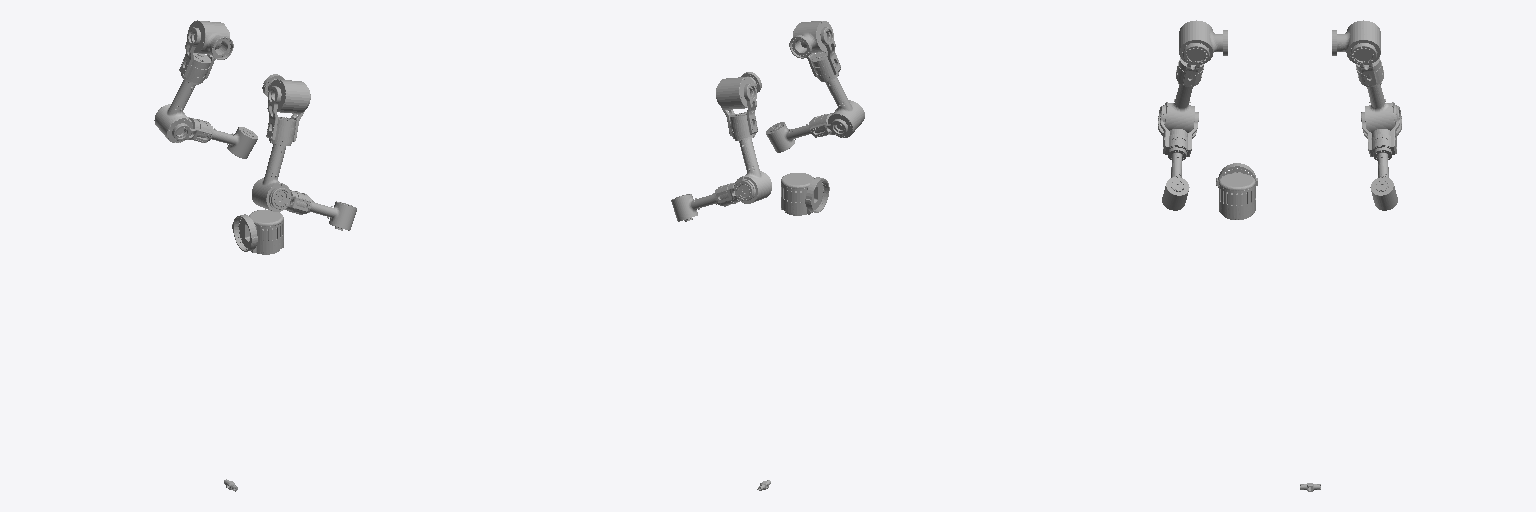
URDF robot description (sbt):
<?xml version='1.0' encoding='utf-8'?>
<robot name="sbt">
  <mujoco>
    <compiler meshdir="./meshes" balanceinertia="true" discardvisual="false" />
  </mujoco>
  <link name="base_link">
    <inertial>
      <origin xyz="-0.10125 -1.4179E-07 -0.041448" rpy="0 0 0" />
      <mass value="7.4135" />
      <inertia ixx="0.028711" ixy="2.4853E-08" ixz="-0.0011713" iyy="0.014902" iyz="2.6749E-09" izz="0.026823" />
    </inertial>
    <visual>
      <origin xyz="0 0 0" rpy="0 0 0" />
      <geometry>
        <mesh filename="./meshes/base_link.STL" />
      </geometry>
      <material name="">
        <color rgba="0.69804 0.69804 0.69804 1" />
      </material>
    </visual>
    <collision>
      <origin xyz="0 0 0" rpy="0 0 0" />
      <geometry>
        <mesh filename="./meshes/base_link.STL" />
      </geometry>
    </collision>
  </link>
  <link name="left_hip_roll">
    <inertial>
      <origin xyz="0.10837 -2.3489E-06 -0.020356" rpy="0 0 0" />
      <mass value="2.1827" />
      <inertia ixx="0.0028761" ixy="4.6498E-10" ixz="0.00014689" iyy="0.0032228" iyz="-3.1042E-09" izz="0.0034399" />
    </inertial>
    <visual>
      <origin xyz="0 0 0" rpy="0 0 0" />
      <geometry>
        <mesh filename="./meshes/left_hip_roll.STL" />
      </geometry>
      <material name="">
        <color rgba="0.69804 0.69804 0.69804 1" />
      </material>
    </visual>
  </link>
  <joint name="left_hip_roll_joint" type="revolute">
    <origin xyz="-0.11644 0.1225 -0.04795" rpy="0 0 0" />
    <parent link="base_link" />
    <child link="left_hip_roll" />
    <axis xyz="1 0 0" />
    <limit lower="-0.17" upper="0.44" effort="267" velocity="13.92" />
  </joint>
  <link name="left_hip_yaw">
    <inertial>
      <origin xyz="-0.00016271 -0.0040921 -0.1177" rpy="0 0 0" />
      <mass value="3.3125" />
      <inertia ixx="0.0053166" ixy="-1.9892E-09" ixz="-4.9223E-06" iyy="0.0062614" iyz="-0.00018436" izz="0.0051934" />
    </inertial>
    <visual>
      <origin xyz="0 0 0" rpy="0 0 0" />
      <geometry>
        <mesh filename="./meshes/left_hip_yaw.STL" />
      </geometry>
      <material name="">
        <color rgba="0.69804 0.69804 0.69804 1" />
      </material>
    </visual>
  </link>
  <joint name="left_hip_yaw_joint" type="revolute">
    <origin xyz="0.1155 0 -0.0182" rpy="0 0 0" />
    <parent link="left_hip_roll" />
    <child link="left_hip_yaw" />
    <axis xyz="0 0 1" />
    <limit lower="-0.7" upper="0.7" effort="121" velocity="7.17" />
  </joint>
  <link name="left_hip_pitch">
    <inertial>
      <origin xyz="0.0025393 0.0034884 -0.15511" rpy="0 0 0" />
      <mass value="5.7187" />
      <inertia ixx="0.032618" ixy="3.4025E-05" ixz="0.00057827" iyy="0.03304" iyz="-0.002044" izz="0.0097265" />
    </inertial>
    <visual>
      <origin xyz="0 0 0" rpy="0 0 0" />
      <geometry>
        <mesh filename="./meshes/left_hip_pitch.STL" />
      </geometry>
      <material name="">
        <color rgba="0.69804 0.69804 0.69804 1" />
      </material>
    </visual>
  </link>
  <joint name="left_hip_pitch_joint" type="revolute">
    <origin xyz="0 -0.0015 -0.125" rpy="0 0 0" />
    <parent link="left_hip_yaw" />
    <child link="left_hip_pitch" />
    <axis xyz="0 1 0" />
    <limit lower="-1.34" upper="1.83" effort="267" velocity="13.92" />
  </joint>
  <link name="left_knee">
    <inertial>
      <origin xyz="-0.017852 -6.7212E-06 -0.15577" rpy="0 0 0" />
      <mass value="3.6902" />
      <inertia ixx="0.022044" ixy="-9.3601E-06" ixz="7.1509E-05" iyy="0.022729" iyz="7.66E-05" izz="0.002391" />
    </inertial>
    <visual>
      <origin xyz="0 0 0" rpy="0 0 0" />
      <geometry>
        <mesh filename="./meshes/left_knee.STL" />
      </geometry>
      <material name="">
        <color rgba="0.75294 0.75294 0.75294 1" />
      </material>
    </visual>
  </link>
  <joint name="left_knee_joint" type="revolute">
    <origin xyz="0 -0.034937 -0.4" rpy="0 0 0" />
    <parent link="left_hip_pitch" />
    <child link="left_knee" />
    <axis xyz="0 -1 0" />
    <limit lower="-2.09" upper="0.09" effort="267" velocity="13.92" />
  </joint>
  <link name="left_ankle_pitch">
    <inertial>
      <origin xyz="1.6609E-09 3.2596E-09 -6.0503E-09" rpy="0 0 0" />
      <mass value="0.09865" />
      <inertia ixx="2.4782E-05" ixy="-9.3355E-12" ixz="-8.3612E-13" iyy="6.0596E-06" iyz="-1.4509E-12" izz="2.4168E-05" />
    </inertial>
    <visual>
      <origin xyz="0 0 0" rpy="0 0 0" />
      <geometry>
        <mesh filename="./meshes/left_ankle_pitch.STL" />
      </geometry>
      <material name="">
        <color rgba="0.69804 0.69804 0.69804 1" />
      </material>
    </visual>
  </link>
  <joint name="left_ankle_pitch_joint" type="revolute">
    <origin xyz="0 0.00043724 -0.387" rpy="0 0 0" />
    <parent link="left_knee" />
    <child link="left_ankle_pitch" />
    <axis xyz="0 -1 0" />
    <limit lower="-0.52" upper="1.05" effort="42" velocity="6.7" />
  </joint>
  <link name="left_ankle_roll">
    <inertial>
      <origin xyz="0.039669 -5.3886E-08 -0.036778" rpy="0 0 0" />
      <mass value="0.60538" />
      <inertia ixx="0.00034025" ixy="-1.4526E-09" ixz="0.00017653" iyy="0.0025604" iyz="-8.608E-10" izz="0.0026384" />
    </inertial>
    <visual>
      <origin xyz="0 0 0" rpy="0 0 0" />
      <geometry>
        <mesh filename="./meshes/left_ankle_roll.STL" />
      </geometry>
      <material name="">
        <color rgba="0.69804 0.69804 0.69804 1" />
      </material>
    </visual>
    <collision>
      <origin xyz="0.046 0 -0.042" rpy="0 0 0" />
      <geometry>
        <box size="0.225 0.08 0.025" />
      </geometry>
    </collision>
  </link>
  <joint name="left_ankle_roll_joint" type="revolute">
    <origin xyz="0 0 0" rpy="0 0 0" />
    <parent link="left_ankle_pitch" />
    <child link="left_ankle_roll" />
    <axis xyz="-1 0 0" />
    <limit lower="-0.44" upper="0.44" effort="42" velocity="6.7" />
  </joint>
  <link name="right_hip_roll">
    <inertial>
      <origin xyz="0.10837 -2.3489E-06 -0.020356" rpy="0 0 0" />
      <mass value="2.1827" />
      <inertia ixx="0.0028761" ixy="4.6498E-10" ixz="0.00014689" iyy="0.0032228" iyz="-3.1042E-09" izz="0.0034399" />
    </inertial>
    <visual>
      <origin xyz="0 0 0" rpy="0 0 0" />
      <geometry>
        <mesh filename="./meshes/right_hip_roll.STL" />
      </geometry>
      <material name="">
        <color rgba="0.69804 0.69804 0.69804 1" />
      </material>
    </visual>
  </link>
  <joint name="right_hip_roll_joint" type="revolute">
    <origin xyz="-0.11644 -0.1225 -0.04795" rpy="0 0 0" />
    <parent link="base_link" />
    <child link="right_hip_roll" />
    <axis xyz="1 0 0" />
    <limit lower="-0.44" upper="0.17" effort="267" velocity="13.92" />
  </joint>
  <link name="right_hip_yaw">
    <inertial>
      <origin xyz="-0.00016274 0.0040921 -0.1177" rpy="0 0 0" />
      <mass value="3.3125" />
      <inertia ixx="0.0053166" ixy="-1.9892E-09" ixz="-4.9218E-06" iyy="0.0062614" iyz="0.00018436" izz="0.0051934" />
    </inertial>
    <visual>
      <origin xyz="0 0 0" rpy="0 0 0" />
      <geometry>
        <mesh filename="./meshes/right_hip_yaw.STL" />
      </geometry>
      <material name="">
        <color rgba="0.69804 0.69804 0.69804 1" />
      </material>
    </visual>
  </link>
  <joint name="right_hip_yaw_joint" type="revolute">
    <origin xyz="0.1155 0 -0.0182" rpy="0 0 0" />
    <parent link="right_hip_roll" />
    <child link="right_hip_yaw" />
    <axis xyz="0 0 1" />
    <limit lower="-0.7" upper="0.7" effort="121" velocity="7.17" />
  </joint>
  <link name="right_hip_pitch">
    <inertial>
      <origin xyz="0.0025393 -0.0034884 -0.15511" rpy="0 0 0" />
      <mass value="5.7187" />
      <inertia ixx="0.032618" ixy="-3.42E-05" ixz="0.00057863" iyy="0.03304" iyz="0.002044" izz="0.0097267" />
    </inertial>
    <visual>
      <origin xyz="0 0 0" rpy="0 0 0" />
      <geometry>
        <mesh filename="./meshes/right_hip_pitch.STL" />
      </geometry>
      <material name="">
        <color rgba="0.69804 0.69804 0.69804 1" />
      </material>
    </visual>
  </link>
  <joint name="right_hip_pitch_joint" type="revolute">
    <origin xyz="0 0.0015 -0.125" rpy="0 0 0" />
    <parent link="right_hip_yaw" />
    <child link="right_hip_pitch" />
    <axis xyz="0 1 0" />
    <limit lower="-1.34" upper="1.83" effort="267" velocity="13.92" />
  </joint>
  <link name="right_knee">
    <inertial>
      <origin xyz="-0.017852 6.7212E-06 -0.15577" rpy="0 0 0" />
      <mass value="3.6902" />
      <inertia ixx="0.022044" ixy="9.4018E-06" ixz="7.1633E-05" iyy="0.022729" iyz="-7.6587E-05" izz="0.002391" />
    </inertial>
    <visual>
      <origin xyz="0 0 0" rpy="0 0 0" />
      <geometry>
        <mesh filename="./meshes/right_knee.STL" />
      </geometry>
      <material name="">
        <color rgba="0.69804 0.69804 0.69804 1" />
      </material>
    </visual>
  </link>
  <joint name="right_knee_joint" type="revolute">
    <origin xyz="0 0.034937 -0.4" rpy="0 0 0" />
    <parent link="right_hip_pitch" />
    <child link="right_knee" />
    <axis xyz="0 -1 0" />
    <limit lower="-2.09" upper="0.09" effort="267" velocity="13.92" />
  </joint>
  <link name="right_ankle_pitch">
    <inertial>
      <origin xyz="1.6609E-09 3.2596E-09 -6.0503E-09" rpy="0 0 0" />
      <mass value="0.09865" />
      <inertia ixx="2.4782E-05" ixy="-9.3355E-12" ixz="-8.3611E-13" iyy="6.0596E-06" iyz="-1.4509E-12" izz="2.4168E-05" />
    </inertial>
    <visual>
      <origin xyz="0 0 0" rpy="0 0 0" />
      <geometry>
        <mesh filename="./meshes/right_ankle_pitch.STL" />
      </geometry>
      <material name="">
        <color rgba="0.69804 0.69804 0.69804 1" />
      </material>
    </visual>
  </link>
  <joint name="right_ankle_pitch_joint" type="revolute">
    <origin xyz="0 -0.00043724 -0.387" rpy="0 0 0" />
    <parent link="right_knee" />
    <child link="right_ankle_pitch" />
    <axis xyz="0 -1 0" />
    <limit lower="-0.52" upper="1.05" effort="42" velocity="6.7" />
  </joint>
  <link name="right_ankle_roll">
    <inertial>
      <origin xyz="0.039669 -5.3901E-08 -0.036778" rpy="0 0 0" />
      <mass value="0.60538" />
      <inertia ixx="0.00034025" ixy="-1.4509E-09" ixz="0.00017653" iyy="0.0025604" iyz="-8.6104E-10" izz="0.0026384" />
    </inertial>
    <visual>
      <origin xyz="0 0 0" rpy="0 0 0" />
      <geometry>
        <mesh filename="./meshes/right_ankle_roll.STL" />
      </geometry>
      <material name="">
        <color rgba="0.69804 0.69804 0.69804 1" />
      </material>
    </visual>
    <collision>
      <origin xyz="0.046 0 -0.042" rpy="0 0 0" />
      <geometry>
        <box size="0.225 0.08 0.025" />
      </geometry>
    </collision>
  </link>
  <joint name="right_ankle_roll_joint" type="revolute">
    <origin xyz="0 0 0" rpy="0 0 0" />
    <parent link="right_ankle_pitch" />
    <child link="right_ankle_roll" />
    <axis xyz="-1 0 0" />
    <limit lower="-0.44" upper="0.44" effort="42" velocity="6.7" />
  </joint>
  <link name="waist_yaw">
    <inertial>
      <origin xyz="0.001283 -7.589E-05 0.20559" rpy="0 0 0" />
      <mass value="10.4394" />
      <inertia ixx="0.032326" ixy="-1.5883E-05" ixz="-8.8259E-07" iyy="0.030447" iyz="-8.047E-07" izz="0.033042" />
    </inertial>
    <visual>
      <origin xyz="0 0 0" rpy="0 0 0" />
      <geometry>
        <mesh filename="./meshes/waist_yaw.STL" />
      </geometry>
      <material name="">
        <color rgba="0.75294 0.75294 0.75294 1" />
      </material>
    </visual>
    <collision>
      <origin xyz="0 0 0" rpy="0 0 0" />
      <geometry>
        <mesh filename="./meshes/waist_yaw.STL" />
      </geometry>
    </collision>
  </link>
  <joint name="waist_yaw_joint" type="revolute">
    <origin xyz="0.0080635 0 0.0573" rpy="0 0 0" />
    <parent link="base_link" />
    <child link="waist_yaw" />
    <axis xyz="0 0 1" />
    <limit lower="-3.14" upper="3.14" effort="69" velocity="4.4" />
  </joint>
  <link name="left_shoulder_pitch">
    <inertial>
      <origin xyz="0.0091062 0.13568 0.00087007" rpy="0 0 0" />
      <mass value="1.4073" />
      <inertia ixx="0.0018568" ixy="-5.7776E-05" ixz="1.9795E-10" iyy="0.0013884" iyz="-8.0408E-10" izz="0.0017462" />
    </inertial>
    <visual>
      <origin xyz="0 0 0" rpy="0 0 0" />
      <geometry>
        <mesh filename="./meshes/left_shoulder_pitch.STL" />
      </geometry>
      <material name="">
        <color rgba="0.69804 0.69804 0.69804 1" />
      </material>
    </visual>
  </link>
  <joint name="left_shoulder_pitch_joint" type="revolute">
    <origin xyz="0.0080635 0.098693 0.42818" rpy="0 0.3 0" />
    <parent link="base_link" />
    <child link="left_shoulder_pitch" />
    <axis xyz="0 1 0" />
    <limit lower="-3.09" upper="2.67" effort="60" velocity="4" />
  </joint>
  <link name="left_shoulder_roll">
    <inertial>
      <origin xyz="-0.044206 0.091886 2.9541E-07" rpy="0 0 0" />
      <mass value="1.0231" />
      <inertia ixx="0.001273" ixy="0.00014968" ixz="-9.7343E-09" iyy="0.00072079" iyz="1.24E-08" izz="0.0013318" />
    </inertial>
    <visual>
      <origin xyz="0 0 0" rpy="0 0 0" />
      <geometry>
        <mesh filename="./meshes/left_shoulder_roll.STL" />
      </geometry>
      <material name="">
        <color rgba="0.69804 0.69804 0.69804 1" />
      </material>
    </visual>
  </link>
  <joint name="left_shoulder_roll_joint" type="revolute">
    <origin xyz="0.0444 0.14081 0.00087012" rpy="-1.4 0 0" />
    <parent link="left_shoulder_pitch" />
    <child link="left_shoulder_roll" />
    <axis xyz="-1 0 0" />
    <limit lower="-1.59" upper="2.25" effort="60" velocity="4" />
  </joint>
  <link name="left_shoulder_yaw">
    <inertial>
      <origin xyz="-0.00062283 0.18132 0.008027" rpy="0 0 0" />
      <mass value="1.222" />
      <inertia ixx="0.0025394" ixy="-2.4639E-05" ixz="-4.375E-06" iyy="0.0010216" iyz="-0.00011054" izz="0.0025368" />
    </inertial>
    <visual>
      <origin xyz="0 0 0" rpy="0 0 0" />
      <geometry>
        <mesh filename="./meshes/left_shoulder_yaw.STL" />
      </geometry>
      <material name="">
        <color rgba="0.75294 0.75294 0.75294 1" />
      </material>
    </visual>
  </link>
  <joint name="left_shoulder_yaw_joint" type="revolute">
    <origin xyz="-0.0444 0.103 0" rpy="0 0 0" />
    <parent link="left_shoulder_roll" />
    <child link="left_shoulder_yaw" />
    <axis xyz="0 1 0" />
    <limit lower="-2.62" upper="2.62" effort="60" velocity="4" />
  </joint>
  <link name="left_elbow">
    <inertial>
      <origin xyz="-4.9236E-08 0.080341 -0.013515" rpy="0 0 0" />
      <mass value="0.73325" />
      <inertia ixx="0.00086196" ixy="-8.6493E-10" ixz="3.6555E-09" iyy="0.00041879" iyz="0.00010899" izz="0.00080645" />
    </inertial>
    <visual>
      <origin xyz="0 0 0" rpy="0 0 0" />
      <geometry>
        <mesh filename="./meshes/left_elbow.STL" />
      </geometry>
      <material name="">
        <color rgba="0.69804 0.69804 0.69804 1" />
      </material>
    </visual>
  </link>
  <joint name="left_elbow_joint" type="revolute">
    <origin xyz="0 0.197 0.0135" rpy="0 0 -1.4" />
    <parent link="left_shoulder_yaw" />
    <child link="left_elbow" />
    <axis xyz="0 0 1" />
    <limit lower="-2.09" upper="1.05" effort="40" velocity="4" />
  </joint>
  <link name="left_wrist_roll">
    <inertial>
      <origin xyz="0.0029058 0.16387 -1.135E-05" rpy="0 0 0" />
      <mass value="0.63743" />
      <inertia ixx="0.0011202" ixy="-5.9547E-05" ixz="-3.7396E-08" iyy="0.00034519" iyz="-7.9913E-08" izz="0.0011544" />
    </inertial>
    <visual>
      <origin xyz="0 0 0" rpy="0 0 0" />
      <geometry>
        <mesh filename="./meshes/left_wrist_roll.STL" />
      </geometry>
      <material name="">
        <color rgba="0.69804 0.69804 0.69804 1" />
      </material>
    </visual>
  </link>
  <joint name="left_wrist_roll_joint" type="revolute">
    <origin xyz="0 0.0896 -0.0135" rpy="0 0 0" />
    <parent link="left_elbow" />
    <child link="left_wrist_roll" />
    <axis xyz="0 1 0" />
    <limit lower="-1.97" upper="1.97" effort="20" velocity="4" />
  </joint>
  <link name="right_shoulder_pitch">
    <inertial>
      <origin xyz="0.0091062 -0.13568 0.00087017" rpy="0 0 0" />
      <mass value="1.4073" />
      <inertia ixx="0.0018568" ixy="5.7776E-05" ixz="-1.9795E-10" iyy="0.0013884" iyz="-8.0408E-10" izz="0.0017462" />
    </inertial>
    <visual>
      <origin xyz="0 0 0" rpy="0 0 0" />
      <geometry>
        <mesh filename="./meshes/right_shoulder_pitch.STL" />
      </geometry>
      <material name="">
        <color rgba="0.69804 0.69804 0.69804 1" />
      </material>
    </visual>
  </link>
  <joint name="right_shoulder_pitch_joint" type="revolute">
    <origin xyz="0.0080635 -0.098693 0.42818" rpy="0 0.3 0" />
    <parent link="base_link" />
    <child link="right_shoulder_pitch" />
    <axis xyz="0 -1 0" />
    <limit lower="-3.09" upper="2.67" effort="60" velocity="4" />
  </joint>
  <link name="right_shoulder_roll">
    <inertial>
      <origin xyz="-0.044206 -0.091886 -2.9542E-07" rpy="0 0 0" />
      <mass value="1.0231" />
      <inertia ixx="0.001273" ixy="-0.00014968" ixz="9.7343E-09" iyy="0.00072079" iyz="1.2399E-08" izz="0.0013318" />
    </inertial>
    <visual>
      <origin xyz="0 0 0" rpy="0 0 0" />
      <geometry>
        <mesh filename="./meshes/right_shoulder_roll.STL" />
      </geometry>
      <material name="">
        <color rgba="0.69804 0.69804 0.69804 1" />
      </material>
    </visual>
  </link>
  <joint name="right_shoulder_roll_joint" type="revolute">
    <origin xyz="0.0444 -0.14081 0.00087012" rpy="1.4 0 0" />
    <parent link="right_shoulder_pitch" />
    <child link="right_shoulder_roll" />
    <axis xyz="-1 0 0" />
    <limit lower="-2.25" upper="1.59" effort="60" velocity="4" />
  </joint>
  <link name="right_shoulder_yaw">
    <inertial>
      <origin xyz="-0.00062239 -0.18132 0.0080269" rpy="0 0 0" />
      <mass value="1.222" />
      <inertia ixx="0.0025394" ixy="2.4641E-05" ixz="-4.3567E-06" iyy="0.0010216" iyz="0.00011057" izz="0.0025368" />
    </inertial>
    <visual>
      <origin xyz="0 0 0" rpy="0 0 0" />
      <geometry>
        <mesh filename="./meshes/right_shoulder_yaw.STL" />
      </geometry>
      <material name="">
        <color rgba="0.69804 0.69804 0.69804 1" />
      </material>
    </visual>
  </link>
  <joint name="right_shoulder_yaw_joint" type="revolute">
    <origin xyz="-0.0444 -0.103 0" rpy="0 0 0" />
    <parent link="right_shoulder_roll" />
    <child link="right_shoulder_yaw" />
    <axis xyz="0 -1 0" />
    <limit lower="-2.62" upper="2.62" effort="60" velocity="4" />
  </joint>
  <link name="right_elbow">
    <inertial>
      <origin xyz="4.9236E-08 -0.080341 -0.013515" rpy="0 0 0" />
      <mass value="0.73325" />
      <inertia ixx="0.00086196" ixy="-8.6493E-10" ixz="-3.6555E-09" iyy="0.00041879" iyz="-0.00010899" izz="0.00080645" />
    </inertial>
    <visual>
      <origin xyz="0 0 0" rpy="0 0 0" />
      <geometry>
        <mesh filename="./meshes/right_elbow.STL" />
      </geometry>
      <material name="">
        <color rgba="0.69804 0.69804 0.69804 1" />
      </material>
    </visual>
  </link>
  <joint name="right_elbow_joint" type="revolute">
    <origin xyz="0 -0.197 0.0135" rpy="0 0 1.4" />
    <parent link="right_shoulder_yaw" />
    <child link="right_elbow" />
    <axis xyz="0 0 1" />
    <limit lower="-1.05" upper="2.09" effort="40" velocity="4" />
  </joint>
  <link name="right_wrist_roll">
    <inertial>
      <origin xyz="0.0029058 -0.13137 1.135E-05" rpy="0 0 0" />
      <mass value="0.63743" />
      <inertia ixx="0.0011202" ixy="5.9547E-05" ixz="3.7396E-08" iyy="0.00034519" iyz="-7.9913E-08" izz="0.0011544" />
    </inertial>
    <visual>
      <origin xyz="0 0 0" rpy="0 0 0" />
      <geometry>
        <mesh filename="./meshes/right_wrist_roll.STL" />
      </geometry>
      <material name="">
        <color rgba="0.69804 0.69804 0.69804 1" />
      </material>
    </visual>
  </link>
  <joint name="right_wrist_roll_joint" type="revolute">
    <origin xyz="0 -0.1221 -0.0135" rpy="0 0 0" />
    <parent link="right_elbow" />
    <child link="right_wrist_roll" />
    <axis xyz="0 1 0" />
    <limit lower="-1.97" upper="1.97" effort="20" velocity="4" />
  </joint>
  <link name="left_foot_front_link" />
  <joint name="left_foot_front_joint" type="fixed" dont_collapse="true">
    <origin xyz="0.15 0 -0.052" rpy="0 0 0" />
    <parent link="left_ankle_roll" />
    <child link="left_foot_front_link" />
  </joint>
  <link name="left_foot_mid_link" />
  <joint name="left_foot_mid_joint" type="fixed" dont_collapse="true">
    <origin xyz="0.05 -0.0 -0.052" rpy="0 0 0" />
    <parent link="left_ankle_roll" />
    <child link="left_foot_mid_link" />
  </joint>
  <link name="left_foot_hind_link" />
  <joint name="left_foot_hind_joint" type="fixed" dont_collapse="true">
    <origin xyz="-0.06 0 -0.052" rpy="0 0 0" />
    <parent link="left_ankle_roll" />
    <child link="left_foot_hind_link" />
  </joint>
  <link name="right_foot_front_link" />
  <joint name="right_foot_front_joint" type="fixed" dont_collapse="true">
    <origin xyz="0.15 0 -0.052" rpy="0 0 0" />
    <parent link="right_ankle_roll" />
    <child link="right_foot_front_link" />
  </joint>
  <link name="right_foot_mid_link" />
  <joint name="right_foot_mid_joint" type="fixed" dont_collapse="true">
    <origin xyz="0.05 -0.0 -0.052" rpy="0 0 0" />
    <parent link="right_ankle_roll" />
    <child link="right_foot_mid_link" />
  </joint>
  <link name="right_foot_hind_link" />
  <joint name="right_foot_hind_joint" type="fixed" dont_collapse="true">
    <origin xyz="-0.06 0 -0.052" rpy="0 0 0" />
    <parent link="right_ankle_roll" />
    <child link="right_foot_hind_link" />
  </joint>
  <link name="upper_body_link" />
  <joint name="upper_body_joint" type="fixed" dont_collapse="true">
    <origin xyz="0.00 0 0.3" rpy="0 0 0" />
    <parent link="waist_yaw" />
    <child link="upper_body_link" />
  </joint>
</robot>

--- What the picture shows (computed from the rendered views, not written in the file) ---
Views: 3 orthographic renders of the robot side by side, from view 1: azimuth 30°, elevation 25°; view 2: azimuth 150°, elevation 25°; view 3: azimuth 270°, elevation 25°.
Model sbt with 31 links and 30 joints (23 revolute, 7 fixed), rooted at base_link, posed all joints at 0.
Links seen in each view (by area): view 1: right_hip_roll, right_shoulder_yaw, left_shoulder_yaw, left_shoulder_pitch, right_shoulder_pitch, right_shoulder_roll, left_shoulder_roll, left_wrist_roll, right_wrist_roll, right_elbow, left_elbow; view 2: right_hip_roll, left_shoulder_yaw, right_shoulder_yaw, right_shoulder_pitch, left_shoulder_pitch, left_shoulder_roll, right_shoulder_roll, right_wrist_roll, left_wrist_roll, left_elbow, right_elbow; view 3: right_hip_roll, left_shoulder_pitch, right_shoulder_pitch, left_wrist_roll, right_wrist_roll, left_shoulder_yaw, right_shoulder_yaw, left_elbow, right_elbow, left_shoulder_roll, right_shoulder_roll.
Link boxes in pixels (left/top/right/bottom): right_hip_roll: left=232, top=209, right=283, bottom=254; right_shoulder_yaw: left=252, top=141, right=290, bottom=211; left_shoulder_yaw: left=154, top=75, right=200, bottom=142; left_shoulder_pitch: left=187, top=20, right=233, bottom=59; right_shoulder_pitch: left=262, top=74, right=308, bottom=113; right_shoulder_roll: left=266, top=86, right=310, bottom=143; left_shoulder_roll: left=179, top=27, right=229, bottom=83; left_wrist_roll: left=208, top=124, right=257, bottom=158; right_wrist_roll: left=305, top=197, right=356, bottom=230; right_elbow: left=271, top=188, right=310, bottom=214; left_elbow: left=158, top=107, right=211, bottom=142; right_hip_roll: left=781, top=173, right=829, bottom=215; left_shoulder_yaw: left=734, top=136, right=771, bottom=203; right_shoulder_yaw: left=821, top=74, right=864, bottom=137; right_shoulder_pitch: left=789, top=21, right=833, bottom=58; left_shoulder_pitch: left=717, top=72, right=761, bottom=109; left_shoulder_roll: left=716, top=83, right=757, bottom=138; right_shoulder_roll: left=793, top=27, right=840, bottom=80; right_wrist_roll: left=766, top=121, right=813, bottom=152; left_wrist_roll: left=671, top=189, right=721, bottom=221; left_elbow: left=715, top=180, right=753, bottom=206; right_elbow: left=810, top=113, right=847, bottom=137; right_hip_roll: left=1216, top=163, right=1257, bottom=219; left_shoulder_pitch: left=1332, top=20, right=1380, bottom=64; right_shoulder_pitch: left=1179, top=20, right=1227, bottom=64; left_wrist_roll: left=1370, top=147, right=1397, bottom=210; right_wrist_roll: left=1162, top=147, right=1189, bottom=210; left_shoulder_yaw: left=1365, top=82, right=1396, bottom=132; right_shoulder_yaw: left=1163, top=82, right=1194, bottom=132; left_elbow: left=1361, top=106, right=1401, bottom=156; right_elbow: left=1158, top=106, right=1198, bottom=156; left_shoulder_roll: left=1350, top=43, right=1383, bottom=85; right_shoulder_roll: left=1176, top=43, right=1209, bottom=85.
Bounding box of the posed robot: 0.334 × 0.6999 × 1.48 m (x, y, z).
Meshes: 24 distinct files referenced, 12 mesh visuals loaded (12 binary STL); not drawn: 12 (reference not matched to a file when rendering).
